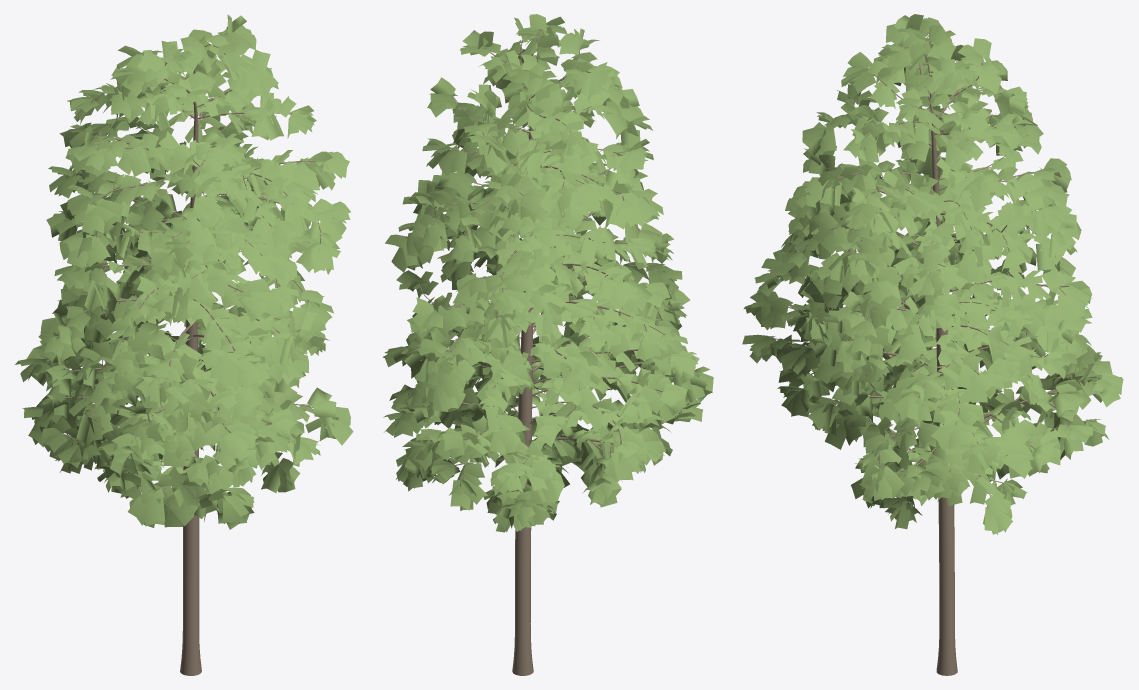
Rendered from Birch_2_lod0.glb.
3 renders of one model, left to right at view 1: azimuth 30°, elevation 25°; view 2: azimuth 150°, elevation 25°; view 3: azimuth 270°, elevation 25°, orthographic. The views are drawn at different scales.
Visible parts, largest first — view 1: Birch_2_lod0; view 2: Birch_2_lod0; view 3: Birch_2_lod0.
Part boxes in pixels (x1,y1,x2,y2): Birch_2_lod0: (15,14,353,675); Birch_2_lod0: (383,14,713,675); Birch_2_lod0: (742,14,1123,675).
Bounding box in the file's own units: 8.31 × 17.6 × 9.56.
